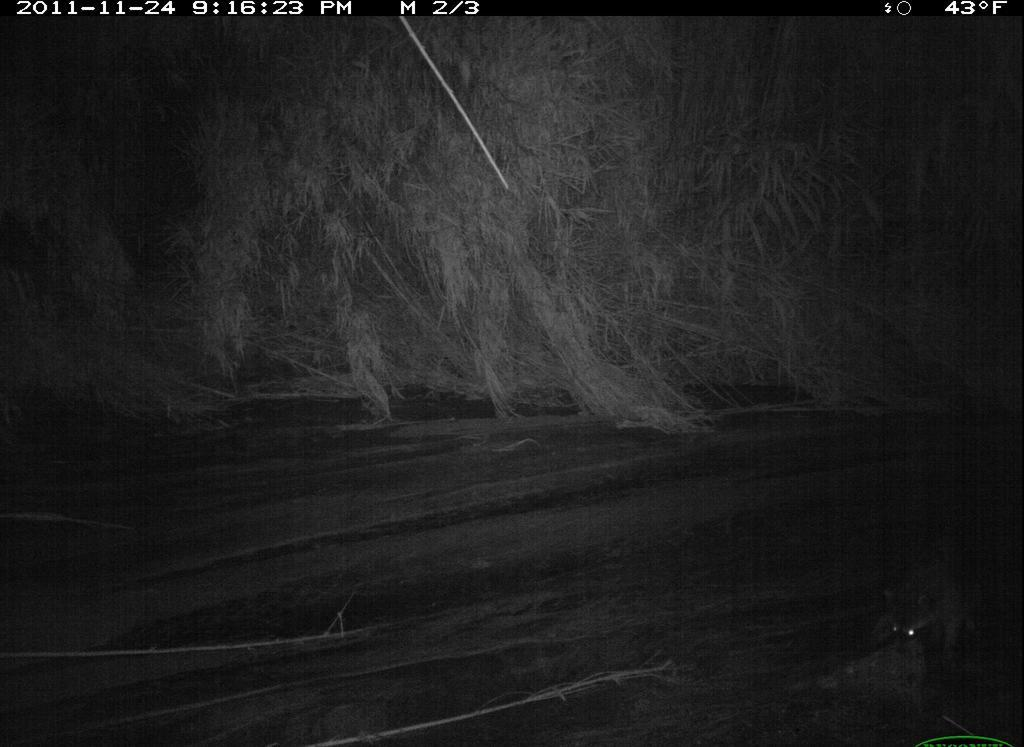raccoon: (876, 524, 1017, 664)
